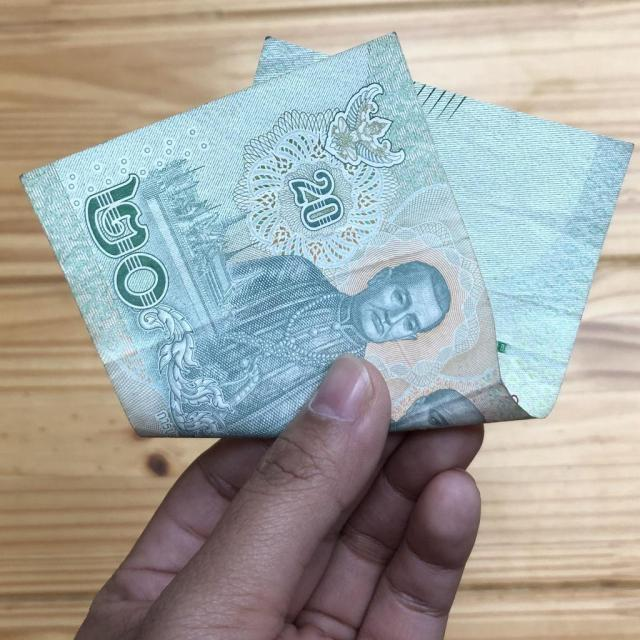THAI20: (21, 34, 633, 438)
